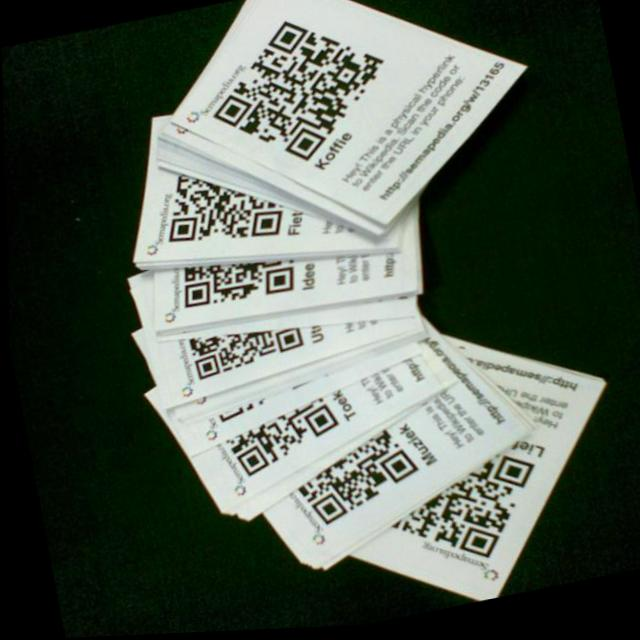qrcode: (198, 5, 401, 181), (380, 454, 548, 579), (288, 428, 424, 533), (156, 159, 287, 259), (218, 400, 345, 482), (176, 248, 298, 315), (187, 319, 305, 383)
